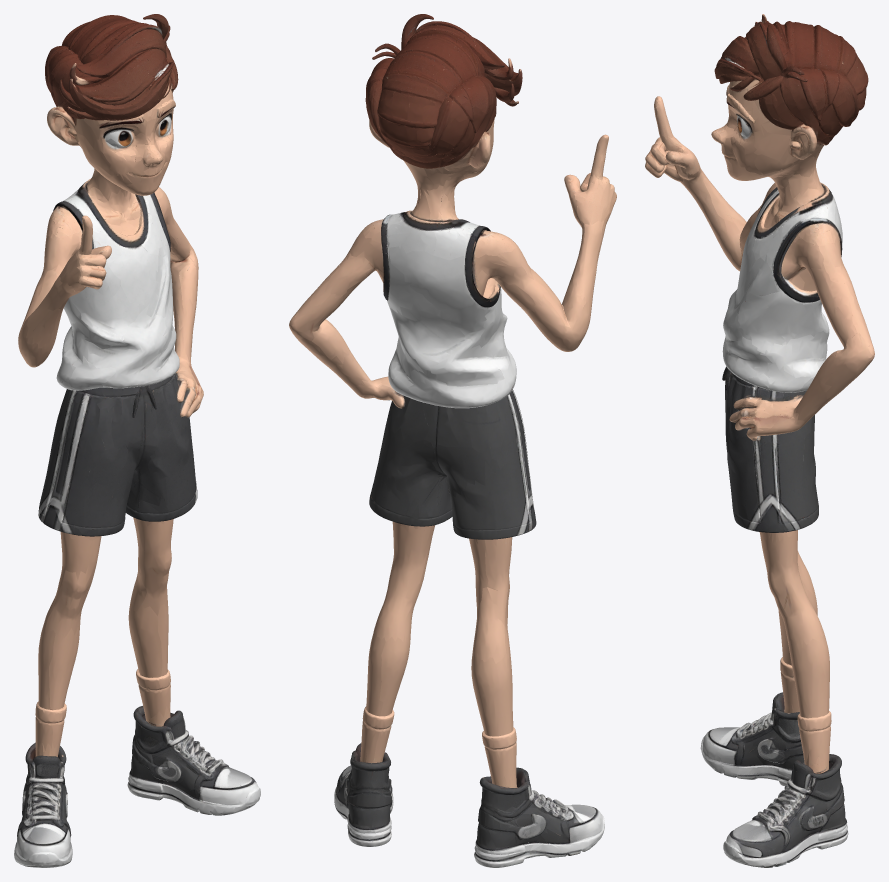
Rendered from teen.glb.
The picture shows the model from 3 angles, left to right: view 1: azimuth 30°, elevation 25°; view 2: azimuth 150°, elevation 25°; view 3: azimuth 270°, elevation 25°; orthographic projection.
Bounding box in the file's own units: 0.6099 × 1.9 × 0.495.
1 material, 1 textured.
